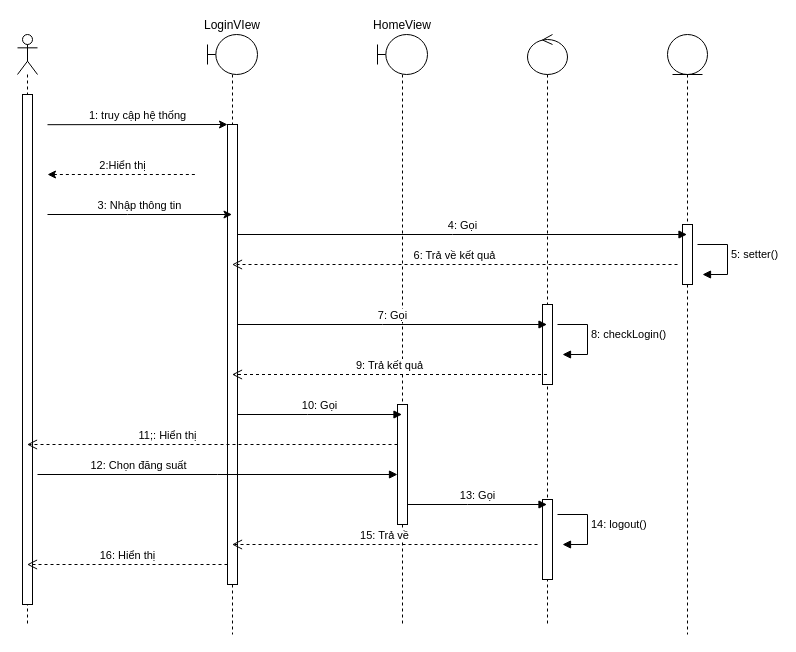
Some shapes in this 796 by 652 pixel diagram are drawn without their labels. The box of each missing label's shape, as (x1, y1, x2, y2) in pixels:
Account: (666, 34, 708, 634)
AccountDAL: (526, 34, 568, 624)
